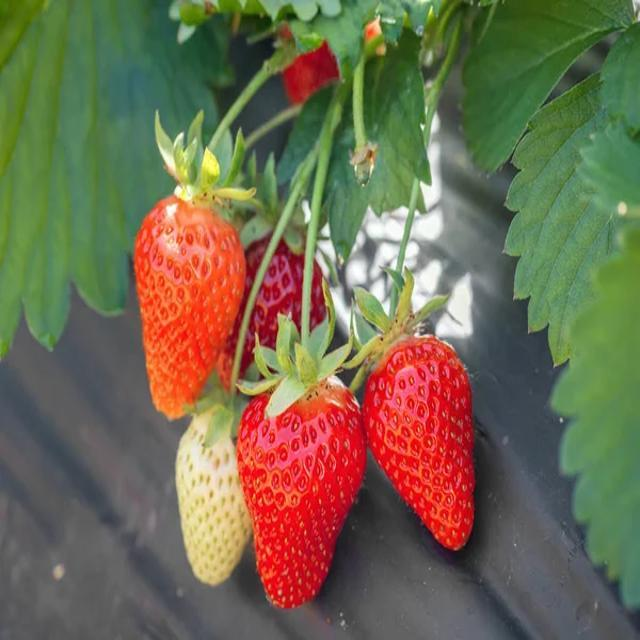Saludable: (236, 369, 365, 609), (132, 191, 249, 419), (364, 342, 474, 558), (172, 403, 252, 588), (235, 237, 334, 381)
